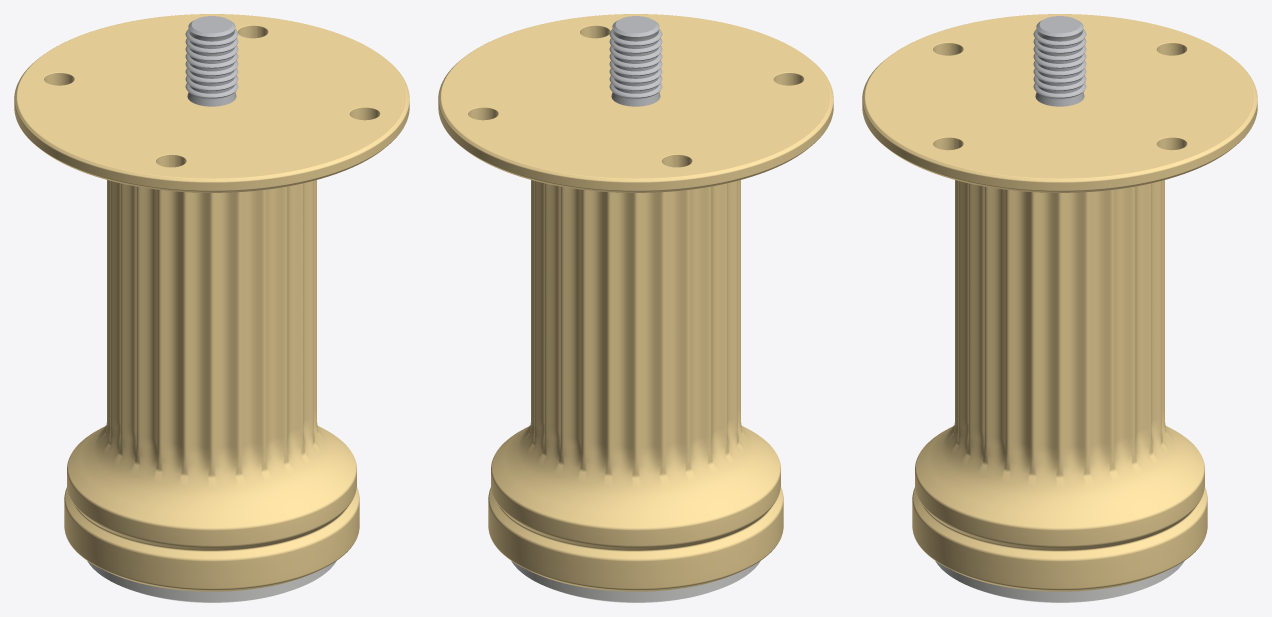
Rendered from sofa-legs-1269.glb.
The picture shows the model from 3 angles, left to right: view 1: azimuth 30°, elevation 25°; view 2: azimuth 150°, elevation 25°; view 3: azimuth 270°, elevation 25°; orthographic projection.
Parts seen in each view (by area): view 1: Body, Plate, Stud, Glide; view 2: Body, Plate, Stud, Glide; view 3: Body, Plate, Stud, Glide.
Boxes of the visible parts, x1,y1,x2,y2 form: Body: (64, 180, 359, 591); Plate: (14, 14, 409, 192); Stud: (185, 16, 238, 106); Glide: (87, 561, 336, 602); Body: (488, 180, 783, 591); Plate: (438, 14, 833, 192); Stud: (609, 16, 662, 106); Glide: (511, 561, 760, 602); Body: (912, 180, 1207, 591); Plate: (862, 14, 1257, 192); Stud: (1033, 16, 1086, 106); Glide: (935, 561, 1184, 602).
Bounding box in the file's own units: 0.06 × 0.0882 × 0.06.
